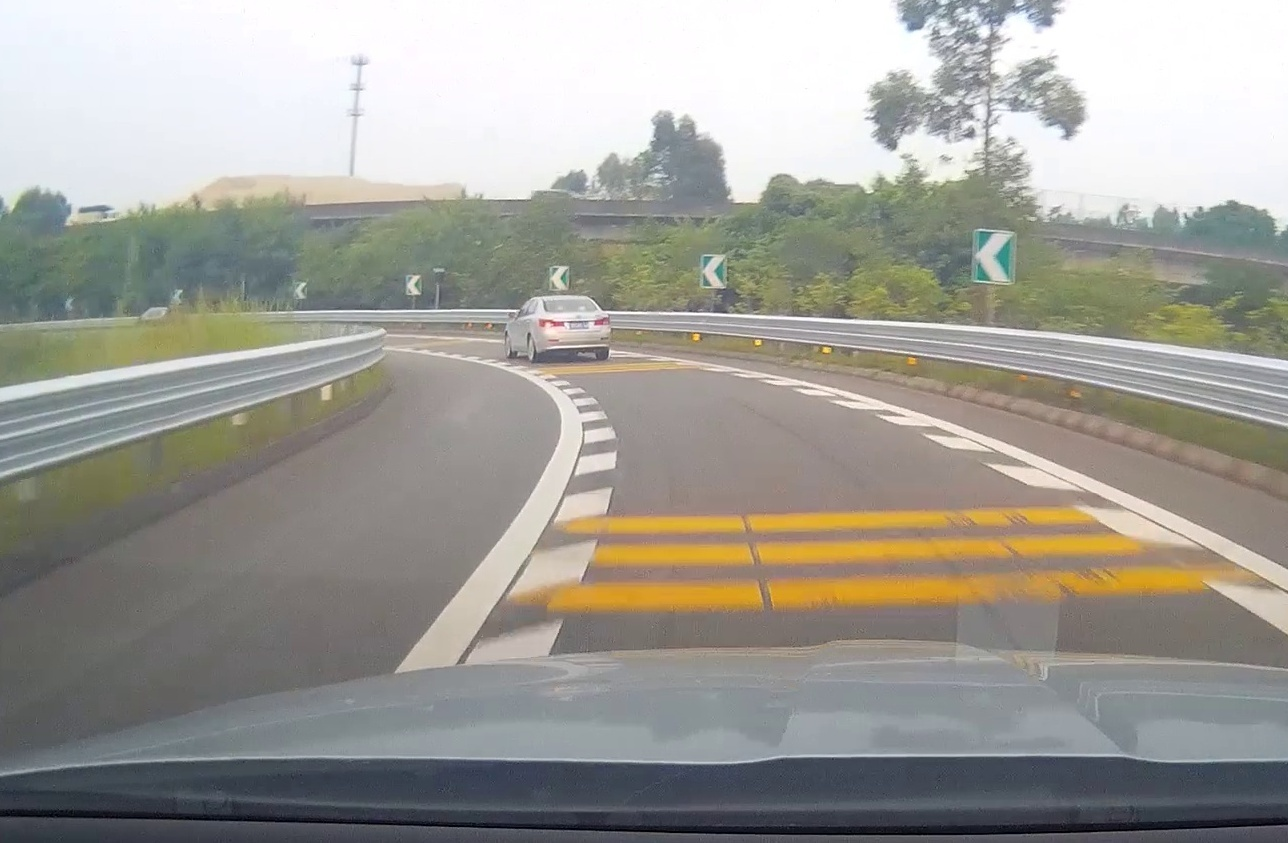L_light: (539, 319, 565, 328)
R_light: (593, 317, 610, 324)
T_light: (568, 308, 579, 313)
day-left: (538, 296, 611, 363)
